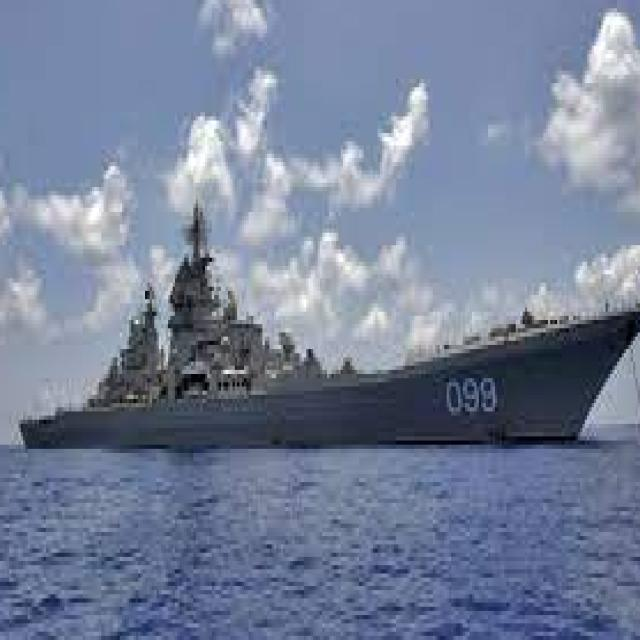navalvessels: (14, 204, 640, 474)
